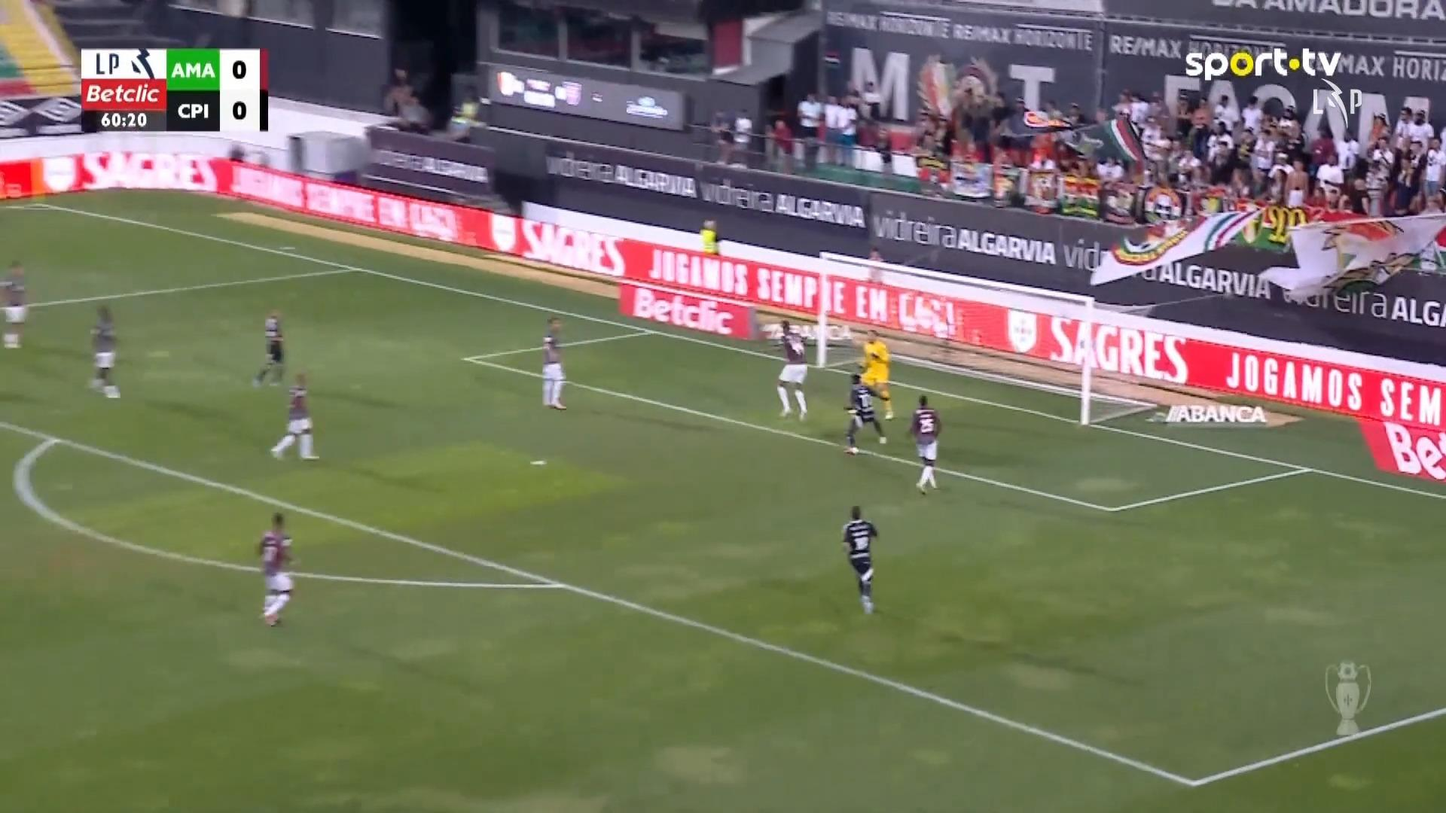goalkeeper: (857, 328, 895, 419)
player: (269, 371, 320, 461), (257, 510, 296, 626), (840, 504, 878, 614), (773, 318, 810, 421), (842, 372, 888, 454), (908, 393, 941, 494), (87, 303, 119, 395), (252, 309, 286, 387), (540, 316, 568, 410), (1, 259, 29, 348)
